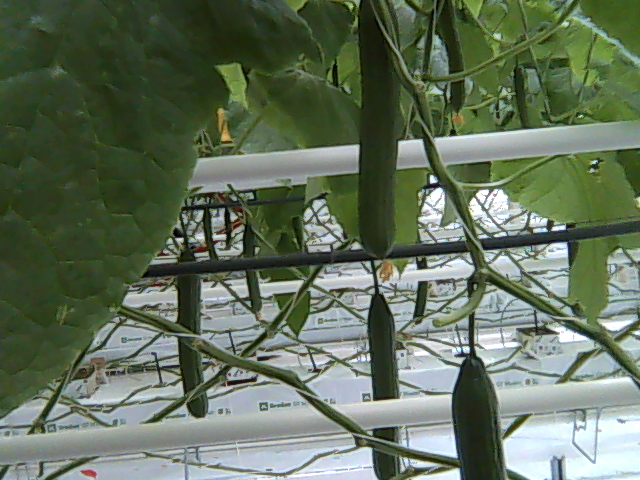concombre: (354, 1, 402, 282), (448, 341, 514, 480)
